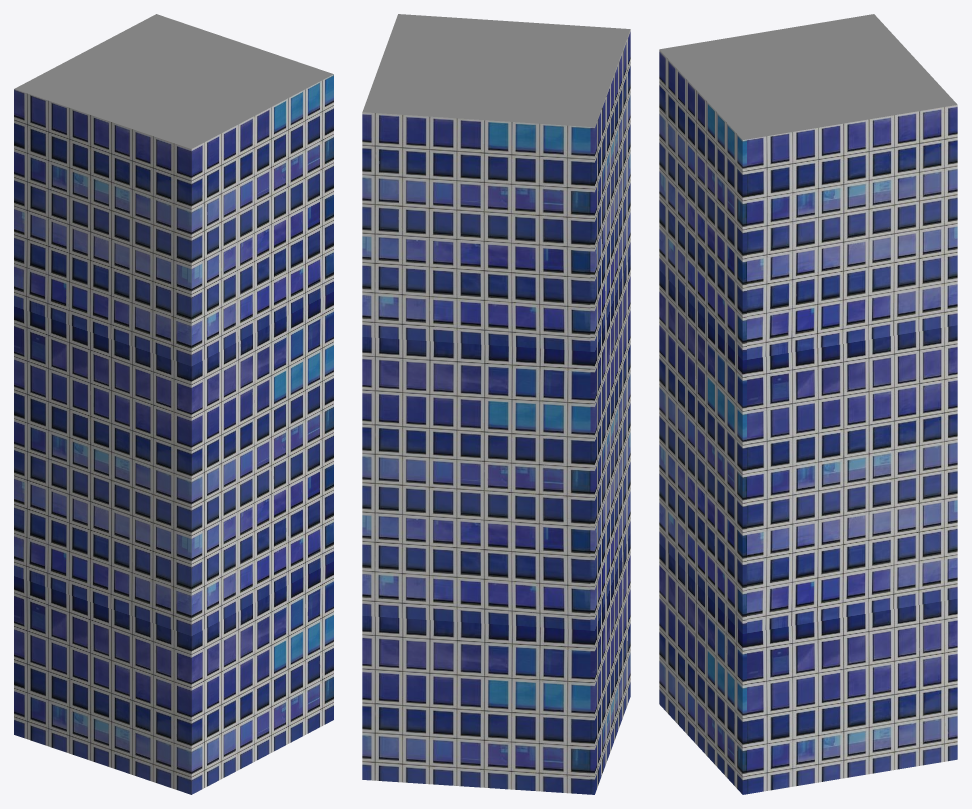
File: building_1.glb
3 views of the same model, side by side, from view 1: azimuth 30°, elevation 25°; view 2: azimuth 150°, elevation 25°; view 3: azimuth 270°, elevation 25° (orthographic). The views are drawn at different scales.
Parts seen in each view (by area): view 1: decoration_edificio_1; view 2: decoration_edificio_1; view 3: decoration_edificio_1.
Boxes of the visible parts, x1,y1,x2,y2 form: decoration_edificio_1: (14,14,333,794); decoration_edificio_1: (362,14,630,794); decoration_edificio_1: (659,14,957,794).
Size of the model in its own units: 61.4 by 149 by 61.4.
2 materials, 1 textured.
